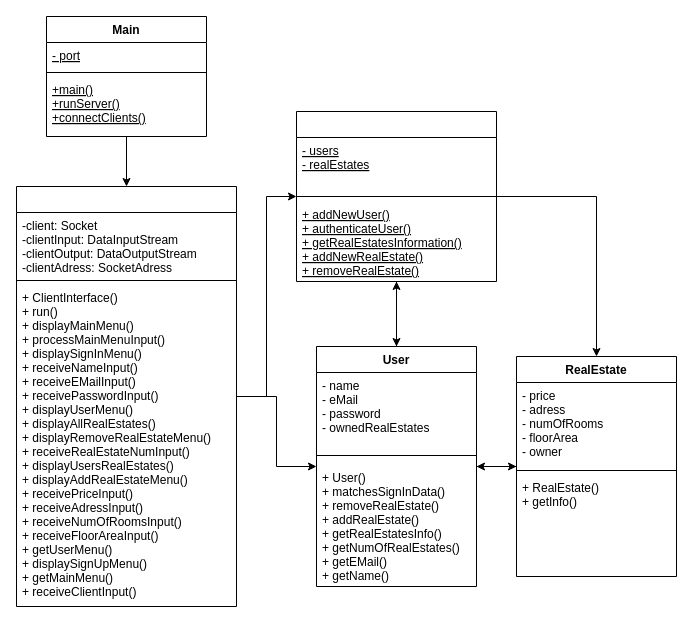
Some shapes in this 693 by 623 pixel diagram are drawn without their labels. Here are the shapes that lost their labels. From the top down, the box of each, then its label:
(296, 110, 496, 282): DataCenter
(16, 186, 236, 606): ClientInterface extends Thread
